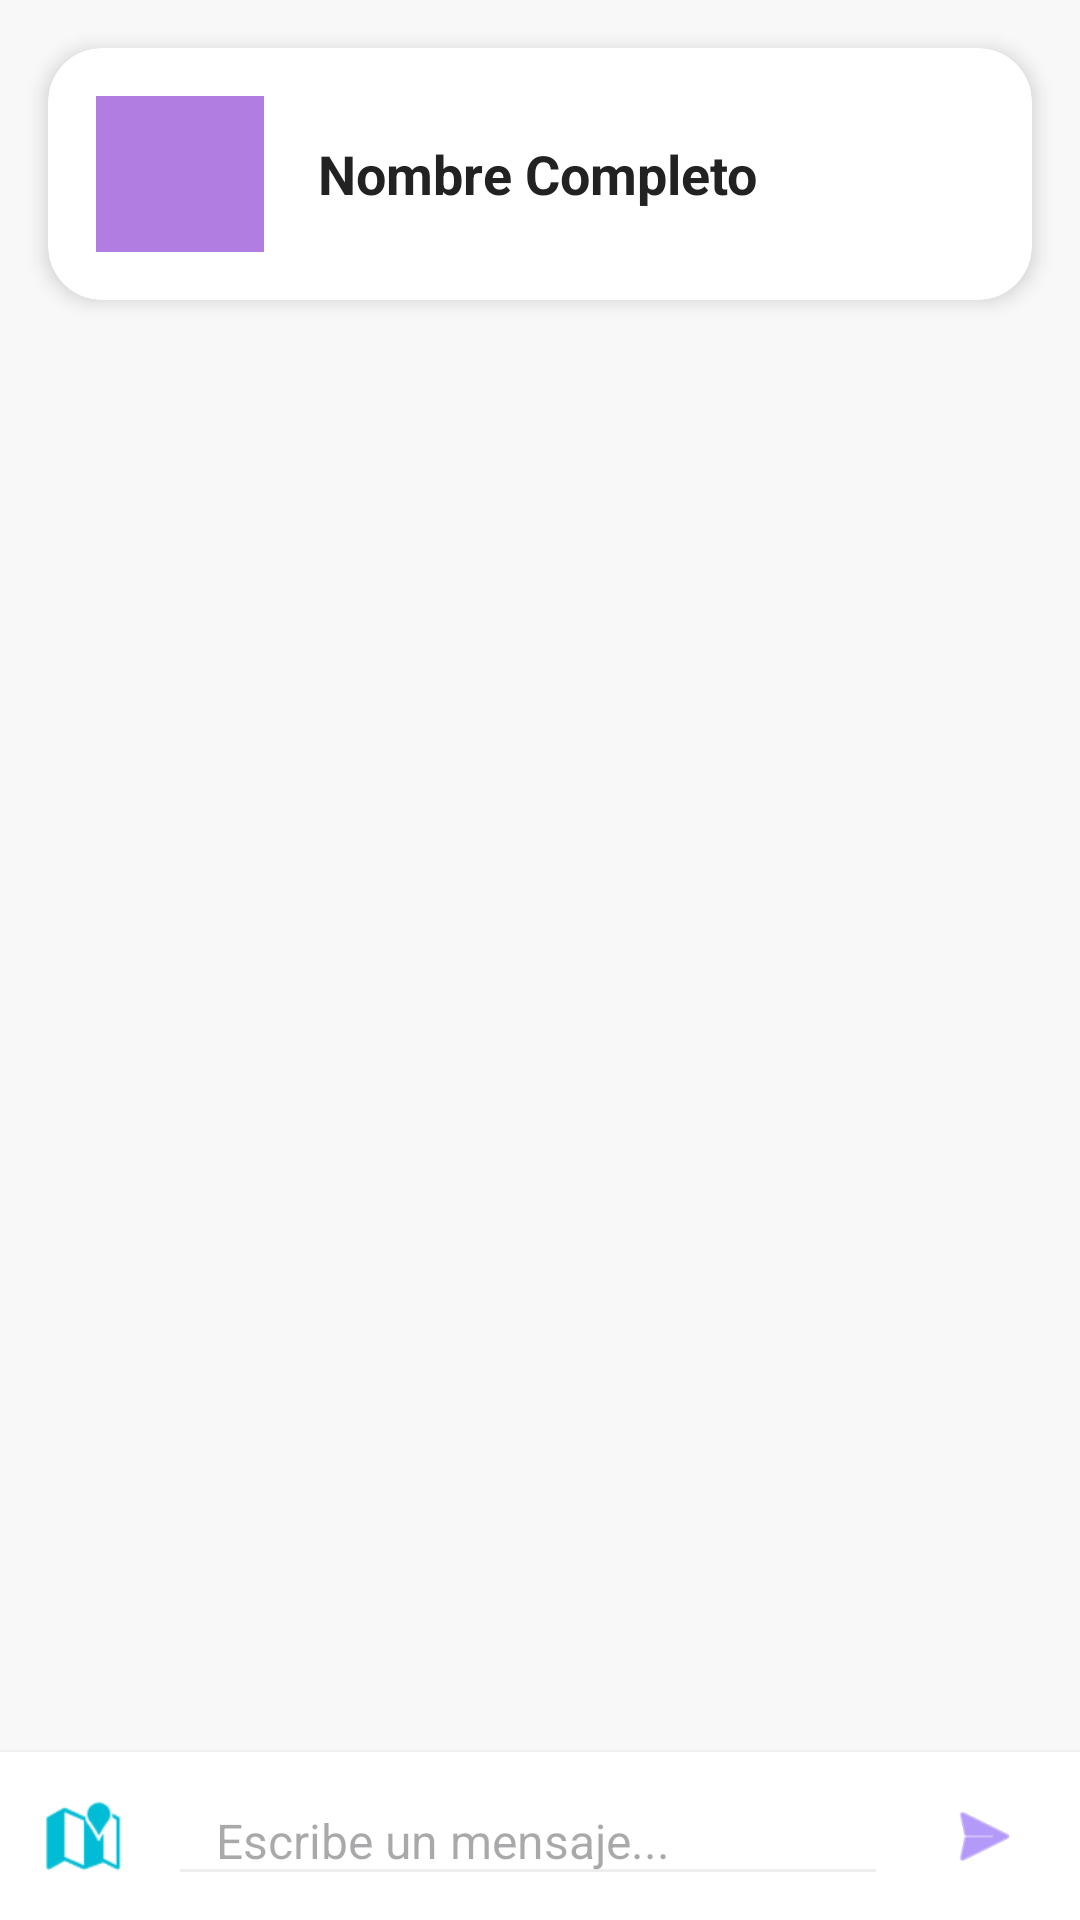

Locate icon controls on the screen. Image size 1080px x 1920px, boxes as [x1=x1, y1=y1, x2=x2, y2=y2].
Enviar mensaje: [x1=960, y1=1812, x2=1010, y2=1861]
